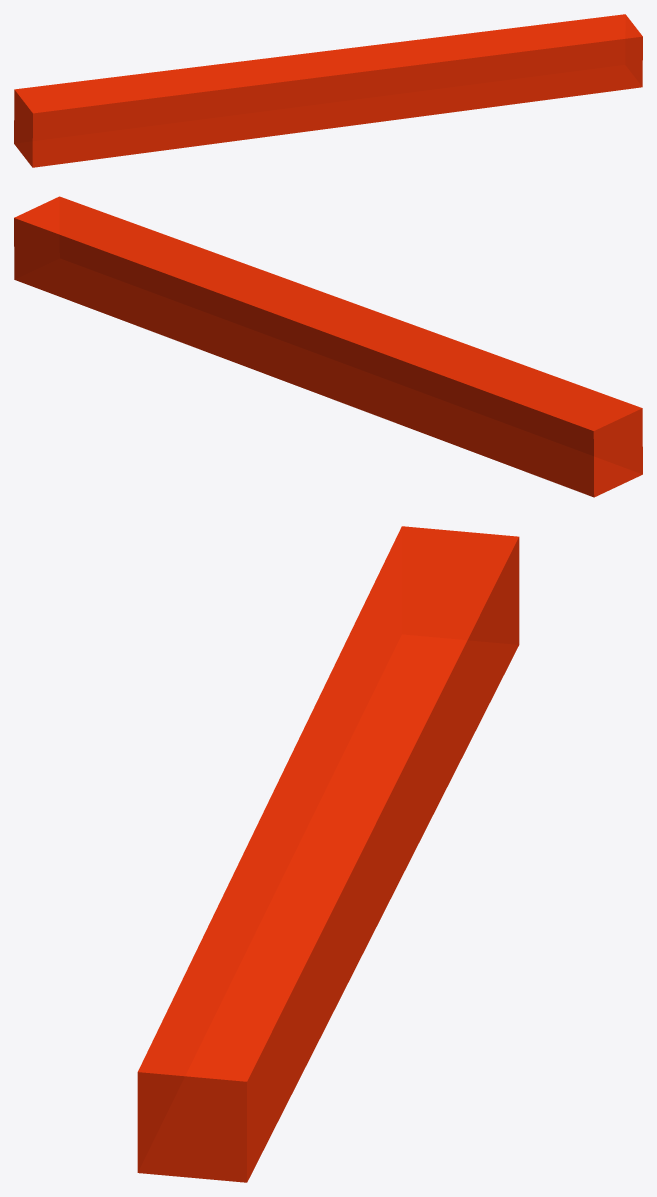
Rendered from Event_420094457_EErechit_16.fbx.
3 renders of one model, top to bottom at view 1: azimuth 30°, elevation 25°; view 2: azimuth 150°, elevation 25°; view 3: azimuth 270°, elevation 25°, orthographic. The views are drawn at different scales.
Parts seen in each view (by area): view 1: Model; view 2: Model; view 3: Model.
Part boxes in pixels (x1,y1,x2,y2): Model: (14,14,642,167); Model: (14,196,642,497); Model: (137,526,519,1182).
Bounding box in the file's own units: 0.8311 × 0.0833 × 0.2478.
